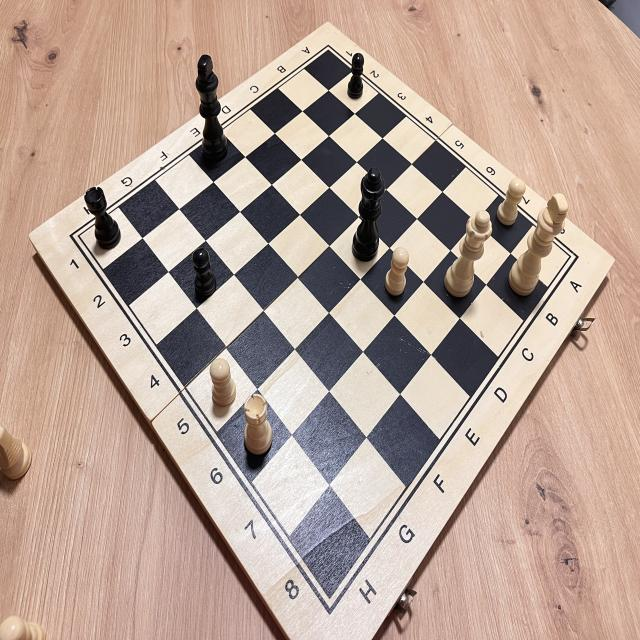black-king: (182, 50, 240, 176)
black-pawn: (185, 242, 222, 300), (343, 46, 370, 106)
black-queen: (348, 160, 390, 271)
black-rook: (78, 178, 127, 257)
white-king: (504, 190, 574, 310)
white-pawn: (202, 352, 241, 416), (493, 171, 531, 235), (380, 236, 411, 307)
white-queen: (441, 203, 498, 312)
white-rook: (237, 387, 278, 462)
